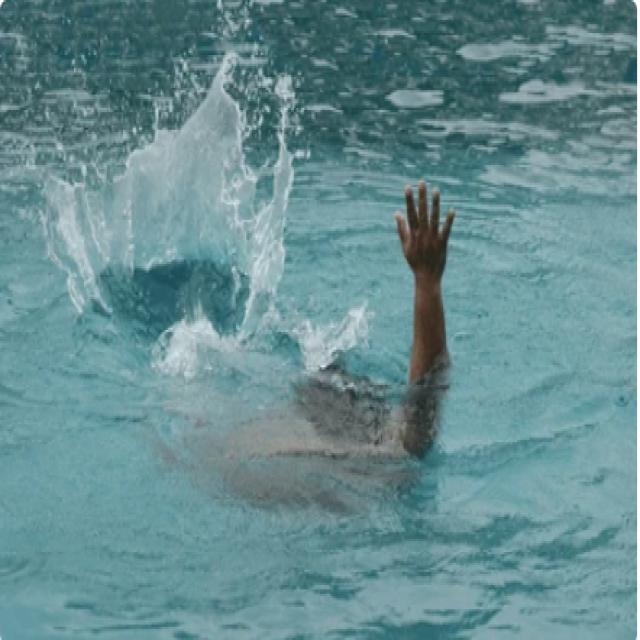Out of Water: (287, 179, 460, 464)
